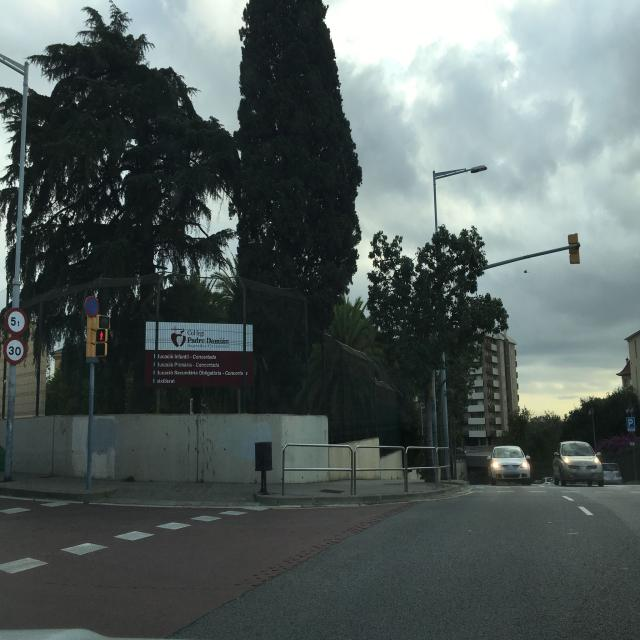car: (552, 440, 604, 487), (487, 445, 531, 485), (600, 462, 623, 486)
